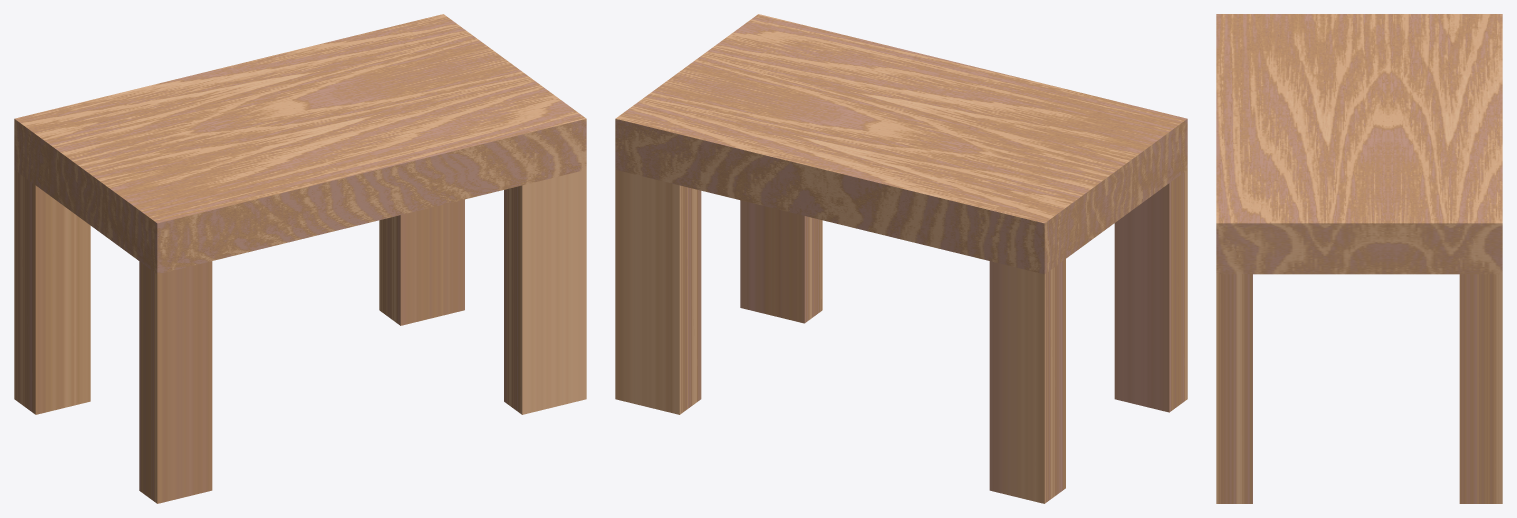
The model's file is table.gltf.
3 views of the same model, side by side, from view 1: azimuth 30°, elevation 25°; view 2: azimuth 150°, elevation 25°; view 3: azimuth 270°, elevation 25° (orthographic).
Parts seen in each view (by area): view 1: Cube; view 2: Cube; view 3: Cube.
Boxes of the visible parts, box(x1,y1,x2,y2) form: Cube: box(14, 14, 586, 503); Cube: box(615, 14, 1187, 503); Cube: box(1216, 14, 1502, 503).
Size of the model in its own units: 9.59 by 5.99 by 5.54.
1 material, 1 textured.
